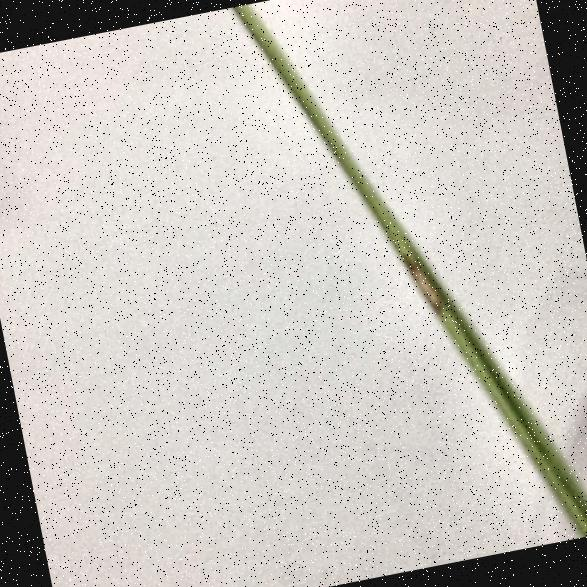Leaf_smut: (388, 229, 456, 333)
